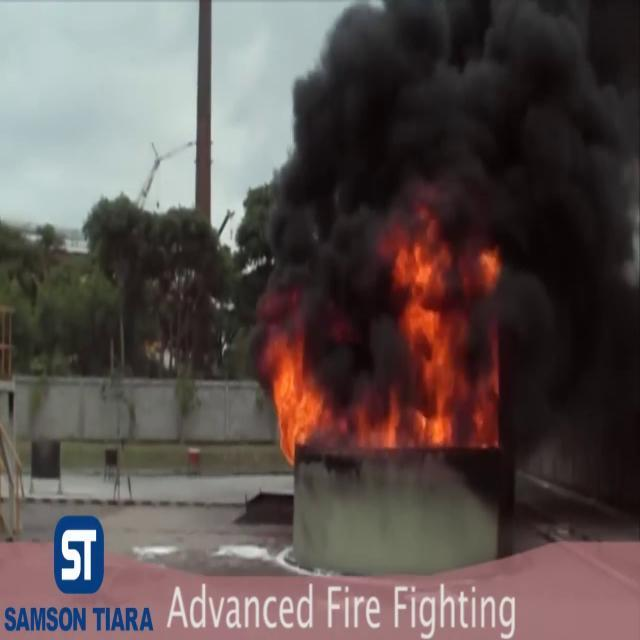Fire: (383, 217, 501, 457), (262, 325, 324, 463)
Smoke: (247, 0, 640, 357)
